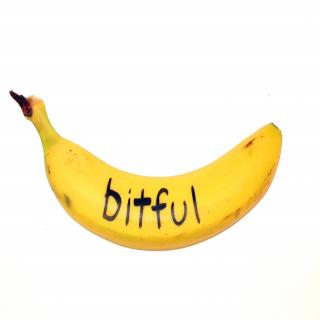Banana: (8, 90, 284, 254)
